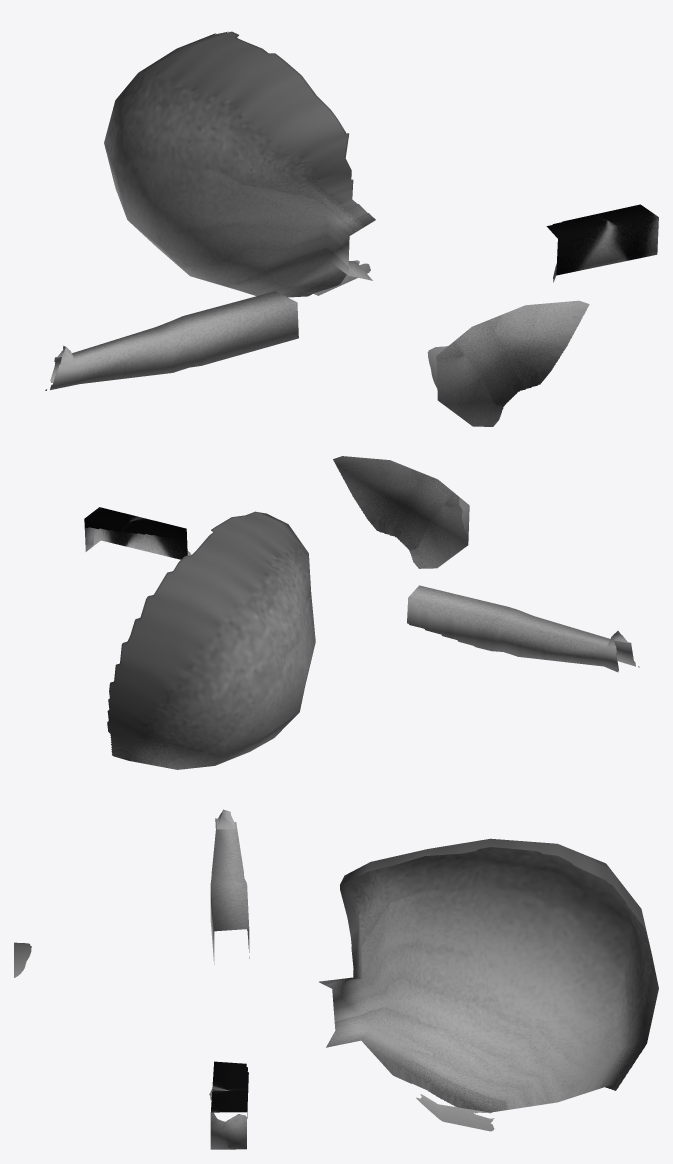
The model's file is Carcass.fbx.
3 renders of one model, top to bottom at view 1: azimuth 30°, elevation 25°; view 2: azimuth 150°, elevation 25°; view 3: azimuth 270°, elevation 25°, orthographic. The views are drawn at different scales.
Visible parts, largest first — view 1: Hobo; view 2: Hobo; view 3: Hobo.
Boxes of the visible parts, x1=… form: Hobo: x1=45, y1=31, x2=658, y2=426; Hobo: x1=84, y1=456, x2=639, y2=769; Hobo: x1=14, y1=809, x2=658, y2=1149.
Bounding box in the file's own units: 194 × 72.87 × 167.
